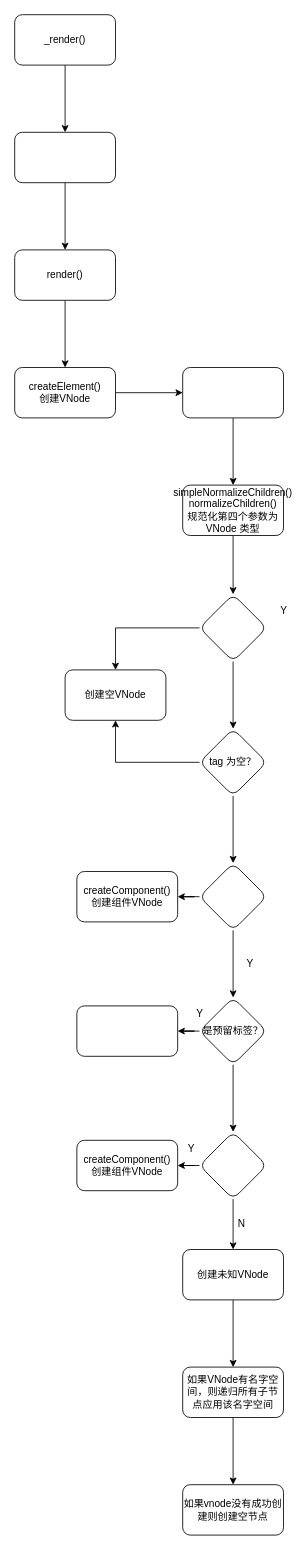
The diagram is 307 pixels wide and 1550 high, and some of its shapes have lost their labels. The shapes that lost their labels are listed below. From the top down, each one's box as (x1, y1, x2, y2) in pixels, then its label:
(14, 131, 116, 183): 缓存静态节点
(182, 367, 284, 418): _createElement()
(199, 593, 267, 662): data 为空？
(199, 862, 267, 930): typeof tag === 'string'
(76, 1005, 178, 1056): 创建一个相应节点
(199, 1131, 267, 1199): 注册的组件名？
